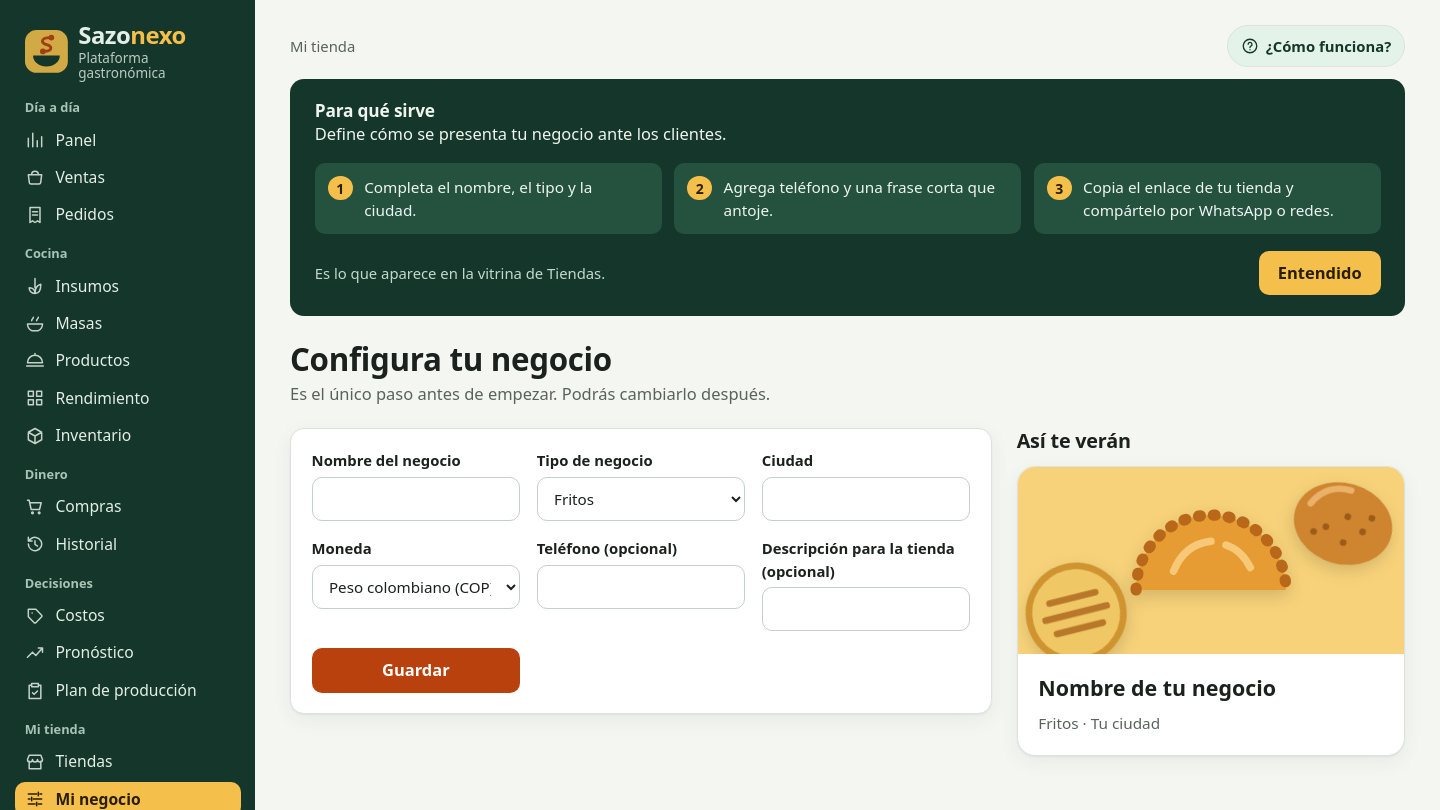
Test: HU-02 Negocio (funcionales) › CA-3: sin nombre muestra el error y no guarda
Click the button "Guardar": (416, 670) [312,648,520,693]
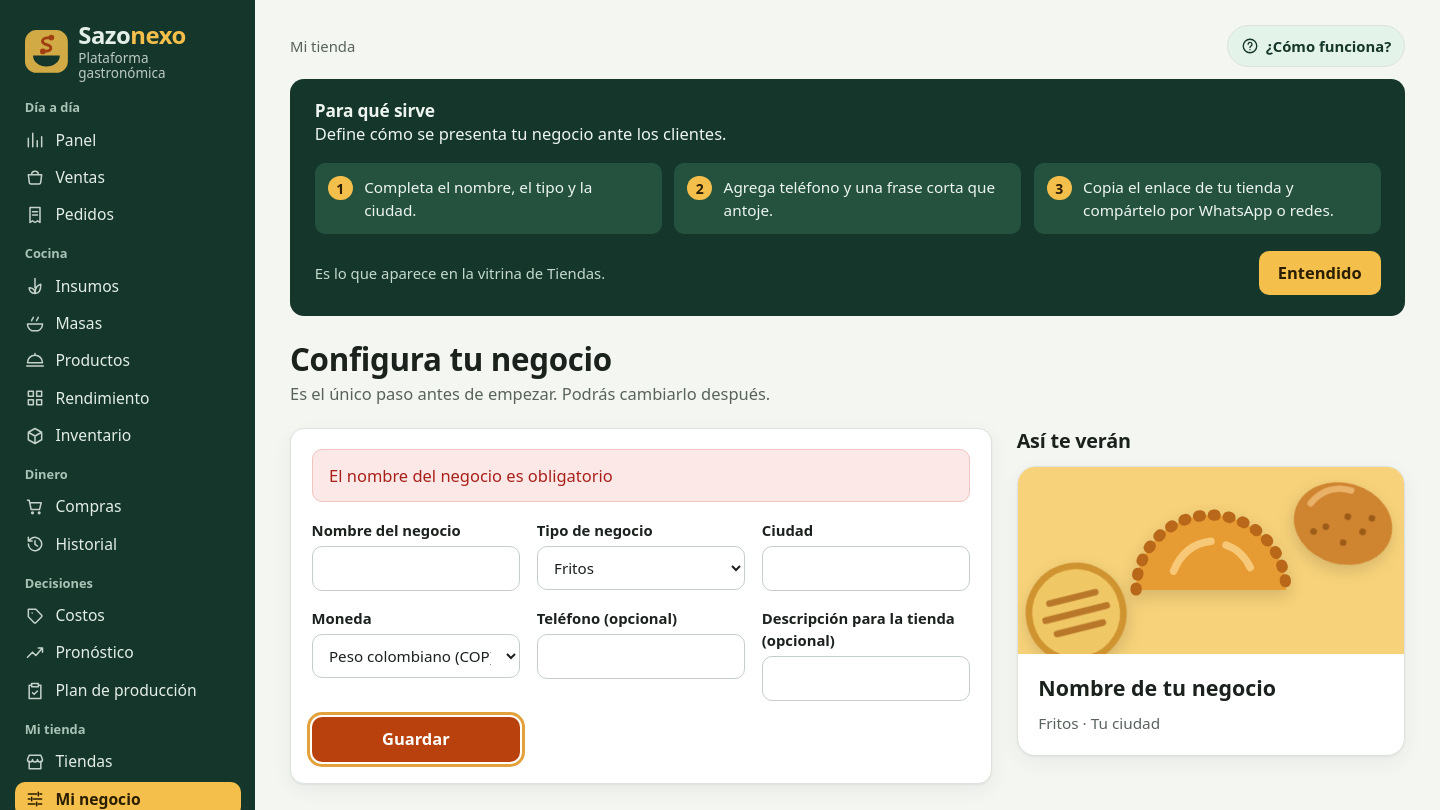
Expected: the message shows "obligatorio", [329,464,613,486]
